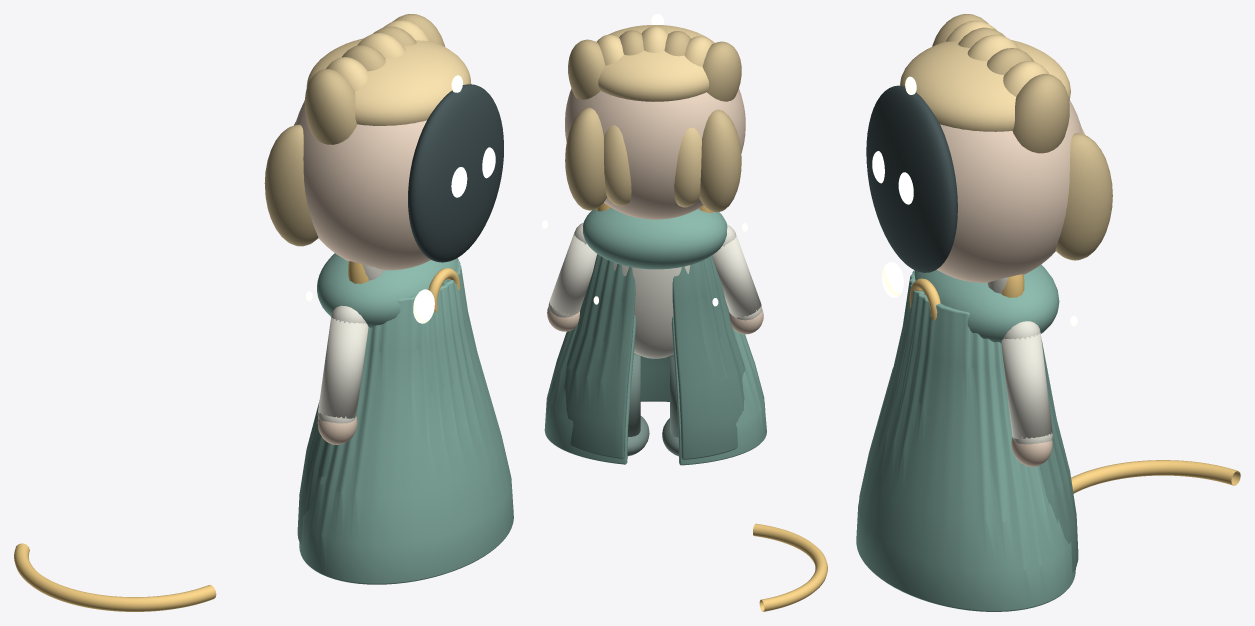
File: Traveler-A-SkyStyle.glb
3 renders of one model, left to right at view 1: azimuth 30°, elevation 25°; view 2: azimuth 150°, elevation 25°; view 3: azimuth 270°, elevation 25°, orthographic. The views are drawn at different scales.
Parts seen in each view (by area): view 1: Traveler A Cape, Traveler A Head, Traveler A Face Mask, Traveler A Hair Crown, Traveler A Shoulder Mantle, Traveler A Hair Lock 4, Traveler A Arm R, Traveler A Scarf Ribbon, Traveler A Hair Tuft 6, Traveler A Cape Inner, Traveler A Hair Tuft 5, Traveler A Hand R (+2 smaller); view 2: Traveler A Cape Inner, Traveler A Head, Traveler A Shoulder Mantle, Traveler A Cape, Traveler A Hair Crown, Traveler A Torso, Traveler A Hair Lock 4, Traveler A Hair Lock 0, Traveler A Arm R, Traveler A Arm L, Traveler A Scarf Ribbon, Traveler A Hair Tuft 6 (+13 smaller); view 3: Traveler A Cape, Traveler A Head, Traveler A Face Mask, Traveler A Hair Crown, Traveler A Shoulder Mantle, Traveler A Hair Lock 0, Traveler A Arm L, Traveler A Hair Tuft 0, Traveler A Cape Inner, Traveler A Scarf Ribbon, Traveler A Hair Tuft 1, Traveler A Hand L (+5 smaller).
Boxes of the visible parts, x1,y1,x2,y2 form: Traveler A Cape: (299, 260, 513, 584); Traveler A Head: (295, 83, 471, 270); Traveler A Face Mask: (408, 84, 503, 262); Traveler A Hair Crown: (306, 38, 470, 125); Traveler A Shoulder Mantle: (317, 253, 458, 327); Traveler A Hair Lock 4: (264, 124, 318, 246); Traveler A Arm R: (318, 317, 368, 418); Traveler A Scarf Ribbon: (14, 543, 216, 611); Traveler A Hair Tuft 6: (304, 69, 357, 144); Traveler A Cape Inner: (297, 400, 330, 544); Traveler A Hair Tuft 5: (326, 57, 368, 91); Traveler A Hand R: (317, 416, 357, 444); Traveler A Cape Inner: (563, 254, 744, 459); Traveler A Head: (565, 88, 745, 219); Traveler A Shoulder Mantle: (583, 208, 727, 269); Traveler A Cape: (544, 314, 766, 465); Traveler A Hair Crown: (598, 25, 714, 101); Traveler A Torso: (613, 262, 689, 358); Traveler A Hair Lock 4: (699, 109, 741, 212); Traveler A Hair Lock 0: (565, 107, 606, 210); Traveler A Arm R: (711, 234, 761, 317); Traveler A Arm L: (549, 232, 597, 315); Traveler A Scarf Ribbon: (753, 523, 827, 611); Traveler A Hair Tuft 6: (702, 41, 741, 101); Traveler A Cape: (856, 270, 1075, 611); Traveler A Head: (937, 100, 1082, 282); Traveler A Face Mask: (866, 85, 957, 272); Traveler A Hair Crown: (900, 40, 1070, 131); Traveler A Shoulder Mantle: (914, 264, 1059, 343); Traveler A Hair Lock 0: (1055, 133, 1112, 260); Traveler A Arm L: (1001, 333, 1052, 438); Traveler A Hair Tuft 0: (1012, 74, 1069, 153); Traveler A Cape Inner: (1039, 338, 1078, 572); Traveler A Scarf Ribbon: (1071, 460, 1240, 493); Traveler A Hair Tuft 1: (1003, 61, 1048, 96); Traveler A Hand L: (1011, 437, 1052, 466).
Size of the model in its own units: 1.51 by 2.02 by 1.23.
